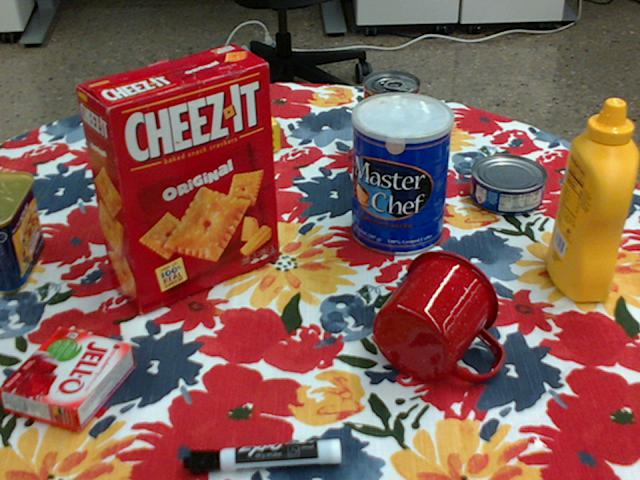cracker_box: (74, 44, 274, 312)
gelatin_box: (2, 327, 135, 431)
large_marker: (184, 439, 343, 473)
master_chef_can: (351, 93, 453, 256)
mug: (374, 250, 502, 381)
mustard_bottle: (543, 99, 635, 302)
potted_meat_can: (0, 170, 41, 293)
sugar_box: (117, 97, 278, 186)
tomato_soup_can: (361, 71, 419, 171)
tuna_fish_can: (470, 156, 547, 217)
